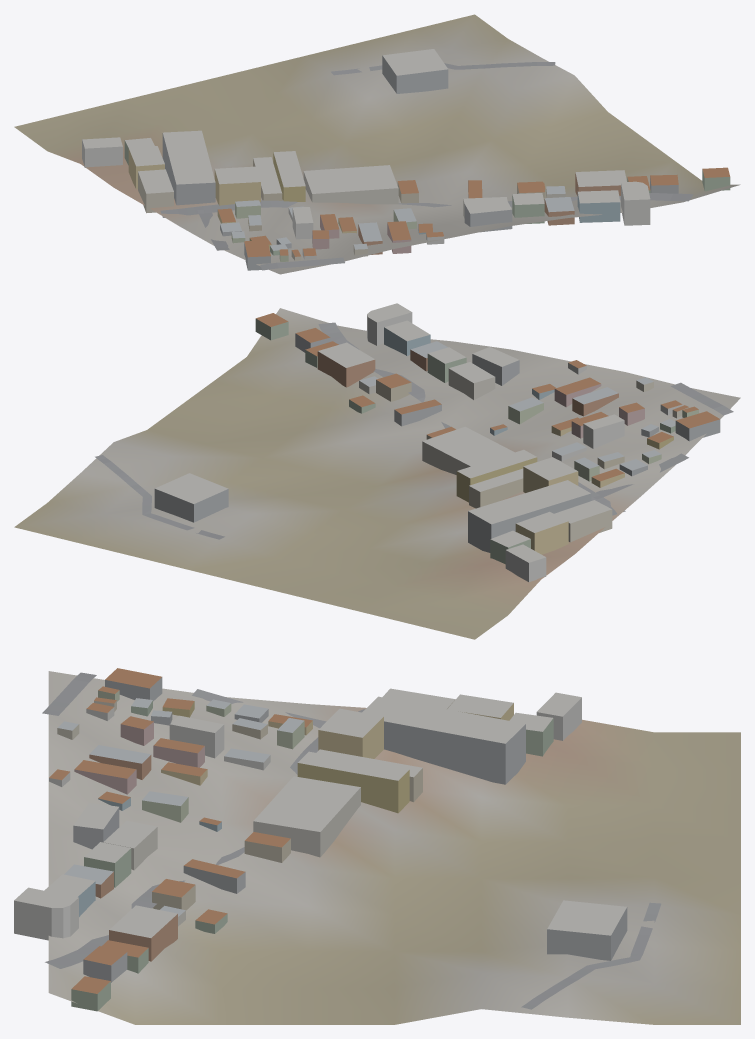
3 views of the same model, one above another, from view 1: azimuth 30°, elevation 25°; view 2: azimuth 150°, elevation 25°; view 3: azimuth 270°, elevation 25° (orthographic). The views are drawn at different scales.
Visible parts, largest first — view 1: Lo; view 2: Lo; view 3: Lo.
Boxes of the visible parts, box(x1,y1,x2,y2) form: Lo: box(14, 14, 740, 274); Lo: box(14, 303, 740, 639); Lo: box(14, 668, 740, 1024).
Bounding box in the file's own units: 262 × 25.44 × 269.
